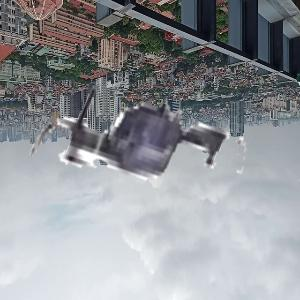drone: (25, 39, 261, 275)
